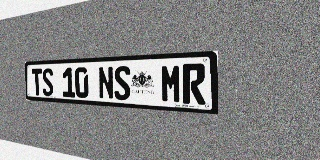0: (75, 67, 89, 98)
1: (62, 67, 75, 98)
M: (161, 64, 182, 103)
N: (98, 66, 114, 100)
R: (182, 63, 206, 105)
S: (114, 66, 131, 101), (42, 68, 54, 96)
T: (31, 69, 42, 96)
